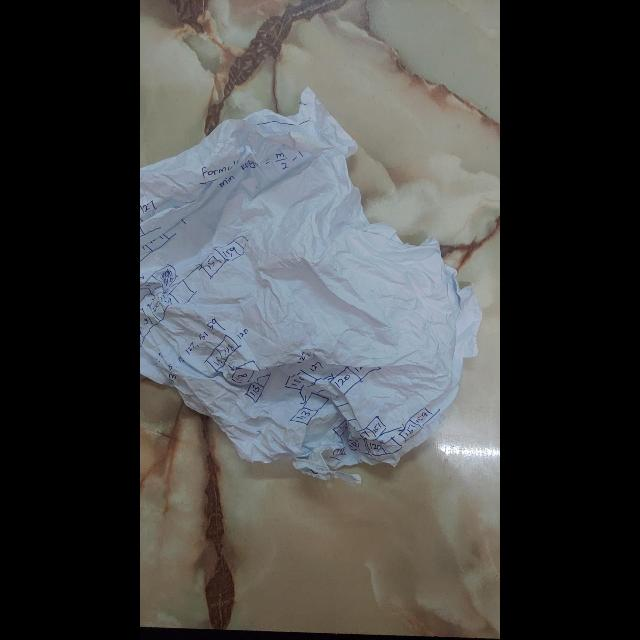papel: (140, 91, 476, 477)
